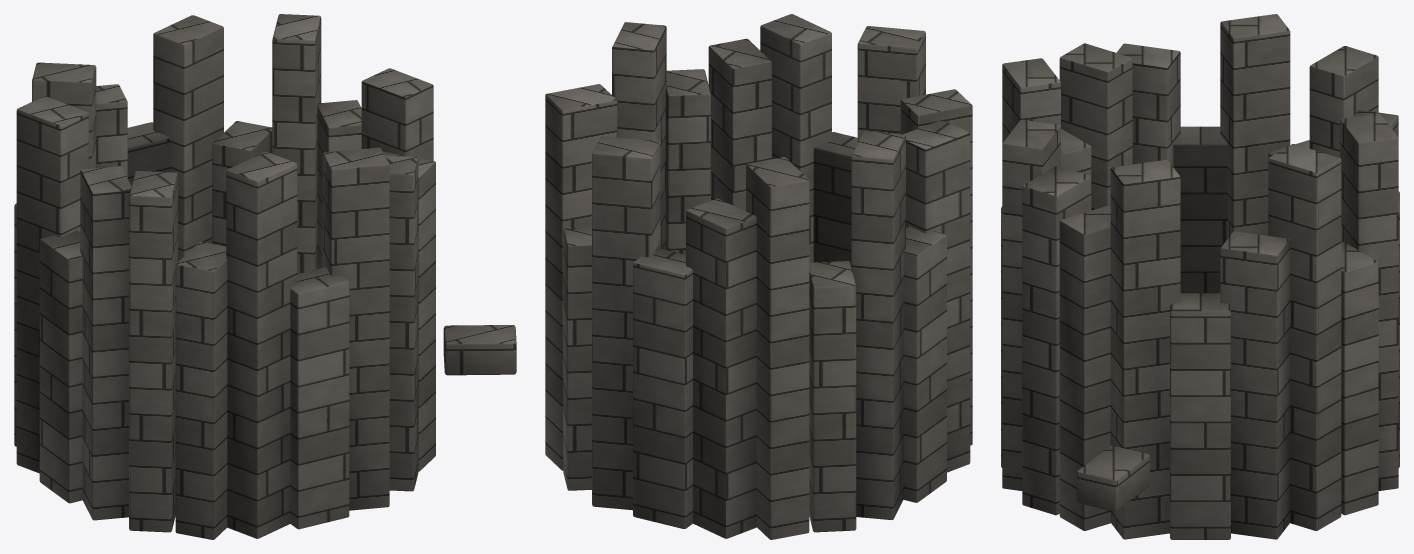
The model's file is tower.glb.
3 views of the same model, side by side, from view 1: azimuth 30°, elevation 25°; view 2: azimuth 150°, elevation 25°; view 3: azimuth 270°, elevation 25° (orthographic).
Parts seen in each view (by area): view 1: boat_stone; view 2: boat_stone; view 3: boat_stone.
Part boxes in pixels (box(x1,y1,x2,y2)): boat_stone: box(14, 14, 516, 539); boat_stone: box(545, 14, 972, 539); boat_stone: box(1001, 14, 1399, 539).
Bounding box in the file's own units: 6.73 × 5.5 × 5.5.
1 material, 1 textured.
